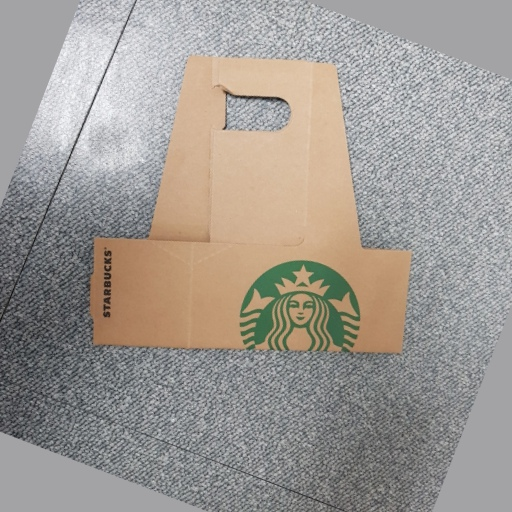Paper_0: (80, 45, 418, 364)
